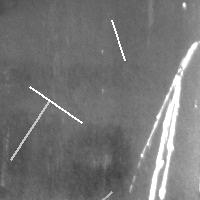scratches: (140, 40, 198, 199), (6, 96, 54, 164), (24, 81, 86, 127), (106, 15, 129, 65), (80, 187, 116, 200)
